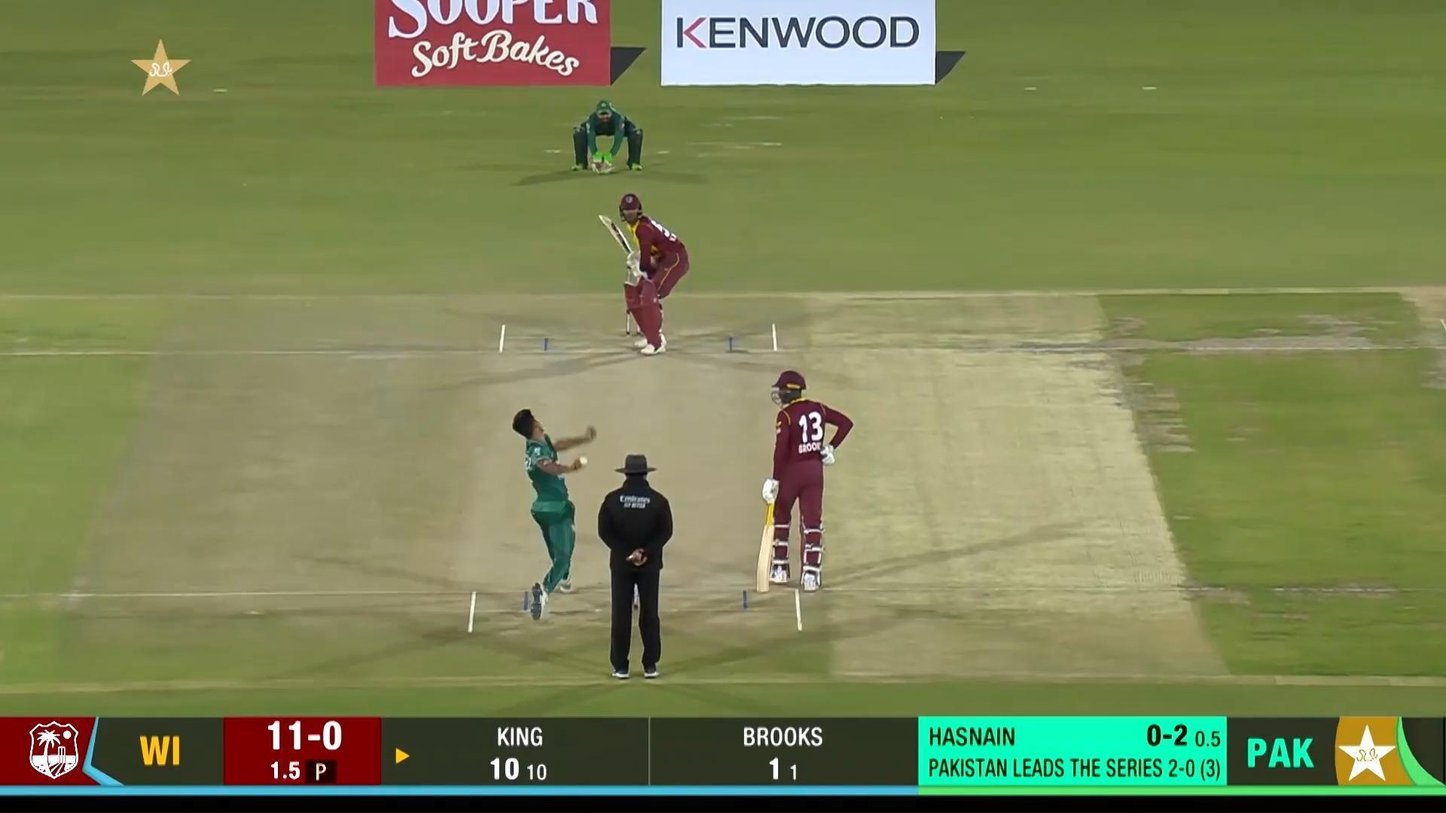BM 1: (598, 193, 690, 356)
BO: (513, 409, 598, 622)
